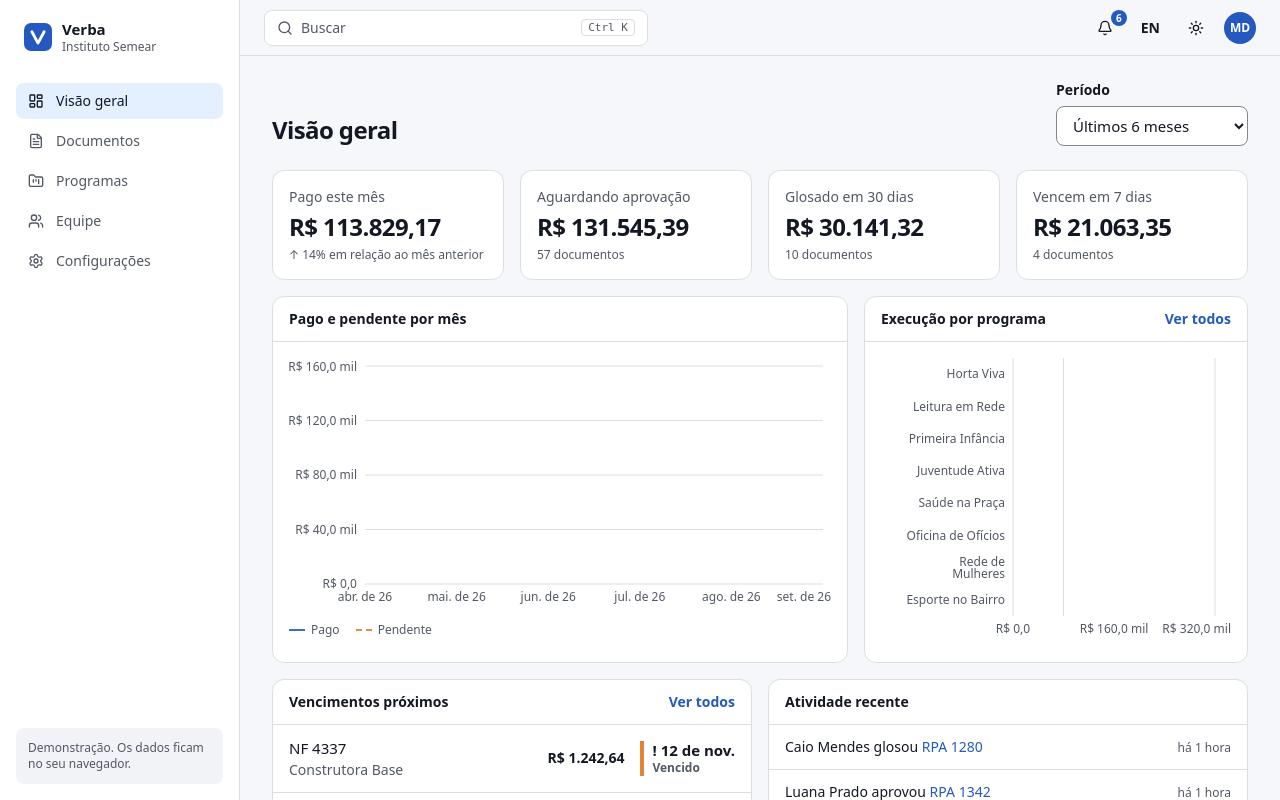
Test: preferences › switches the whole interface to English
This screenshot has width=1280, height=800.
Click the button with aria-label "Switch to English".
click(1150, 28)  # box [1129,12,1172,44]
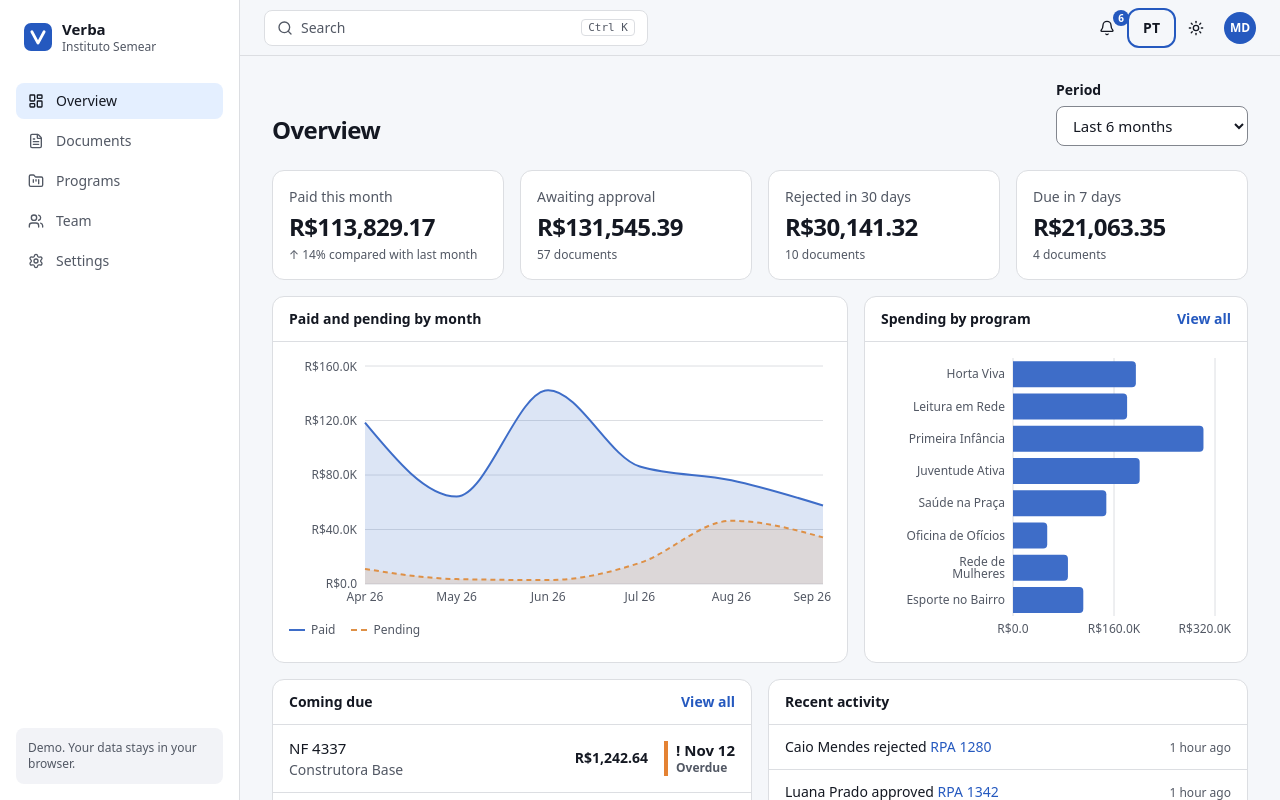
Check: the heading "Overview" is shown, box [272,114,380,146]
